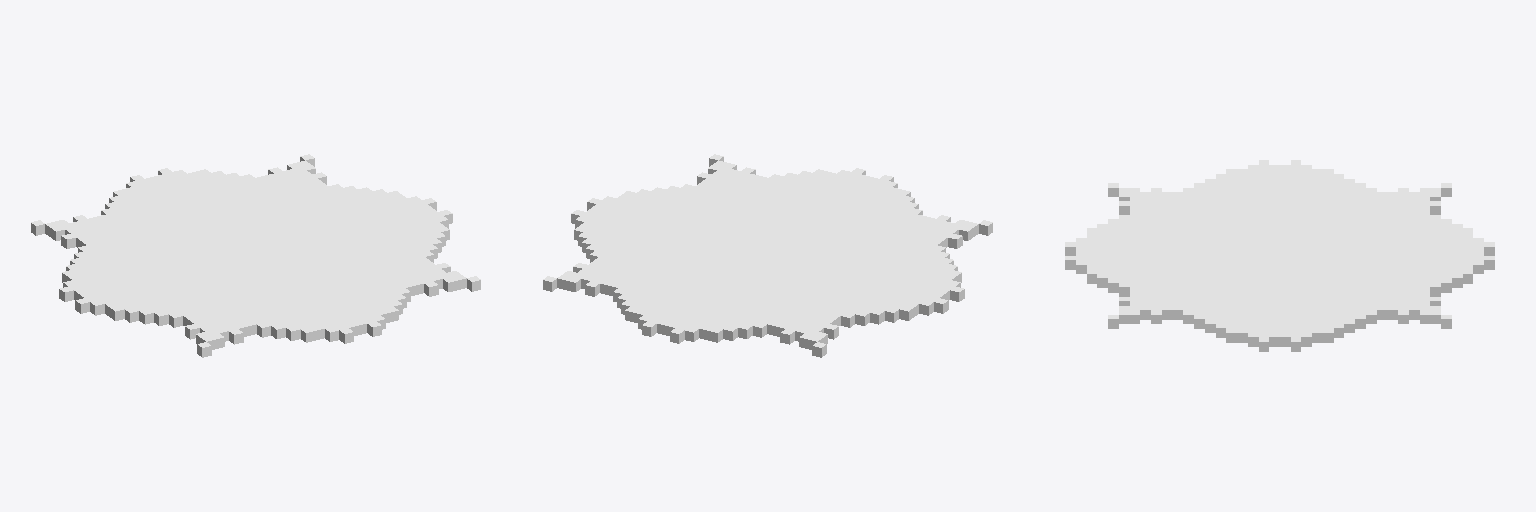
File: Explosion.obj
3 renders of one model, left to right at view 1: azimuth 30°, elevation 25°; view 2: azimuth 150°, elevation 25°; view 3: azimuth 270°, elevation 25°, orthographic.
Parts seen in each view (by area): view 1: object 1; view 2: object 1; view 3: object 1.
Part boxes in pixels (x1,y1,x2,y2): object 1: (31, 154, 480, 357); object 1: (543, 154, 992, 357); object 1: (1065, 160, 1494, 351).
Bounding box in the file's own units: 4 × 0.1 × 4.